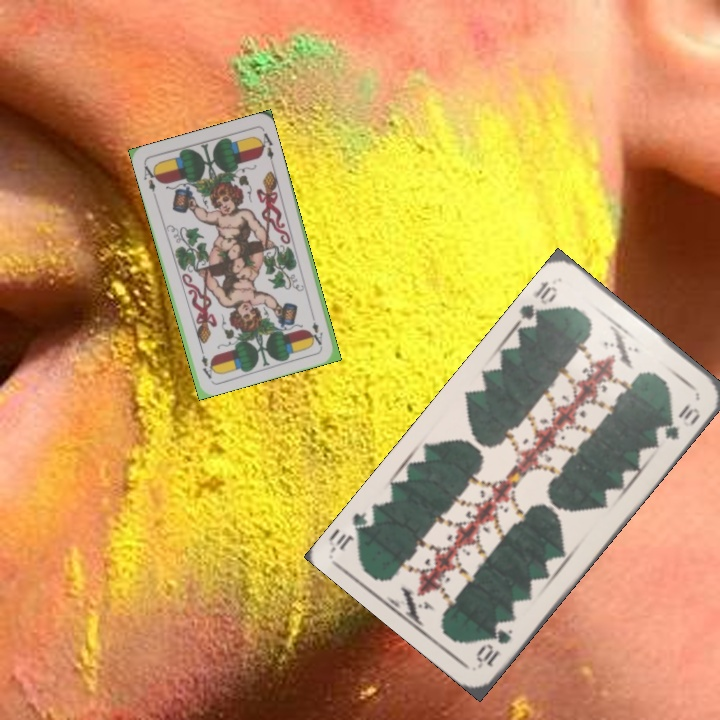EA: (140, 160, 161, 200), (307, 309, 325, 348)
G10: (514, 277, 561, 331), (472, 625, 516, 670)
